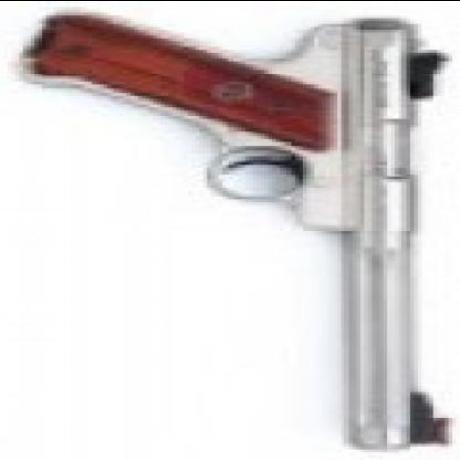weapon: (21, 12, 449, 446)
